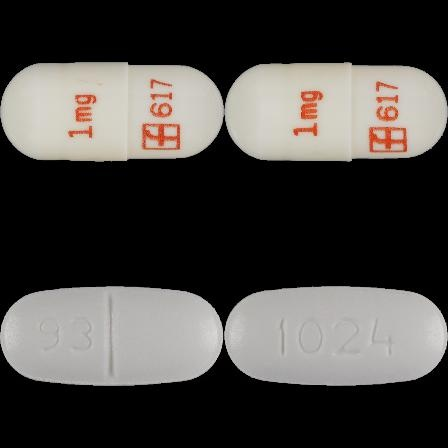21695-170: (0, 0, 224, 224)
